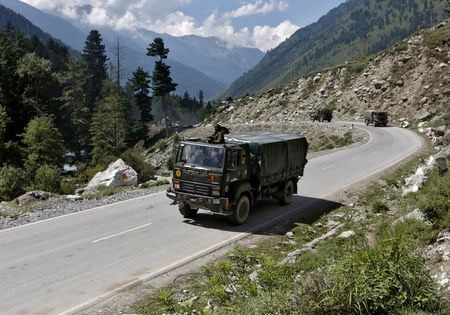army vehicle: (167, 133, 311, 224), (363, 110, 389, 128), (309, 107, 333, 123)
